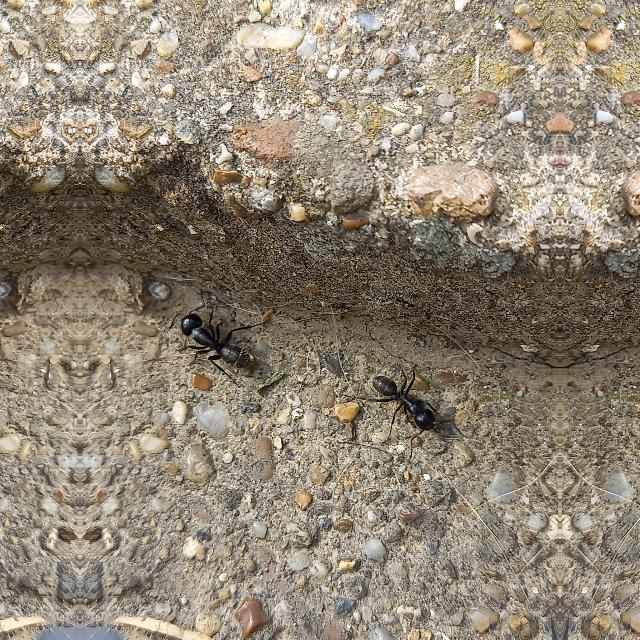Camponotus: (172, 296, 258, 374), (365, 371, 443, 433)
